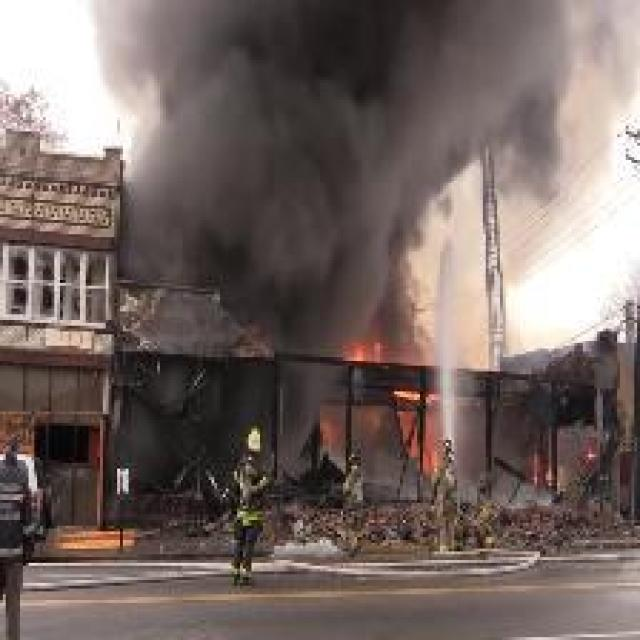fire: (317, 326, 445, 484)
smoke: (84, 0, 510, 506)
